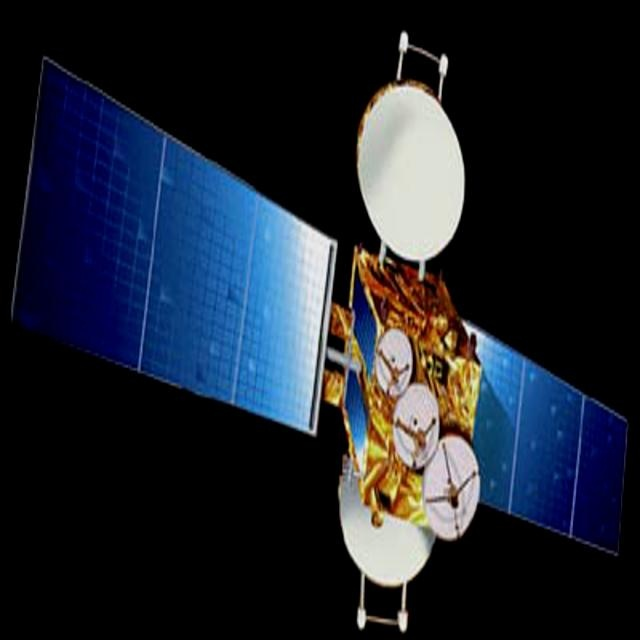satellite: (0, 18, 640, 640)
